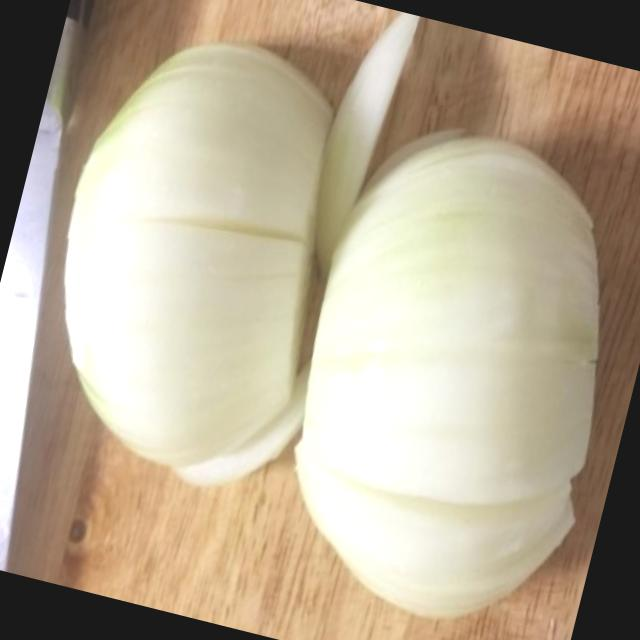orange: (245, 24, 640, 640), (1, 0, 408, 530)
